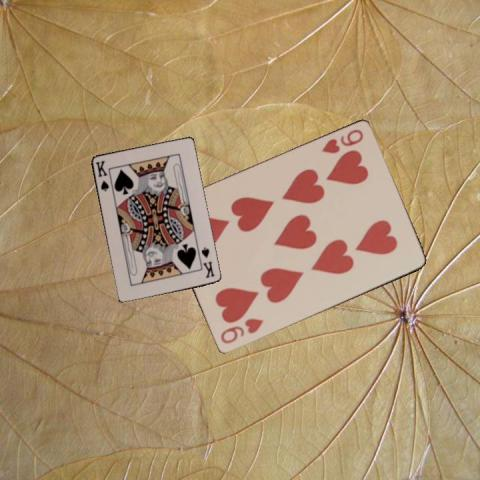9h: (217, 315, 265, 346), (318, 127, 364, 156)
Ks: (93, 157, 110, 193), (198, 244, 215, 279)
